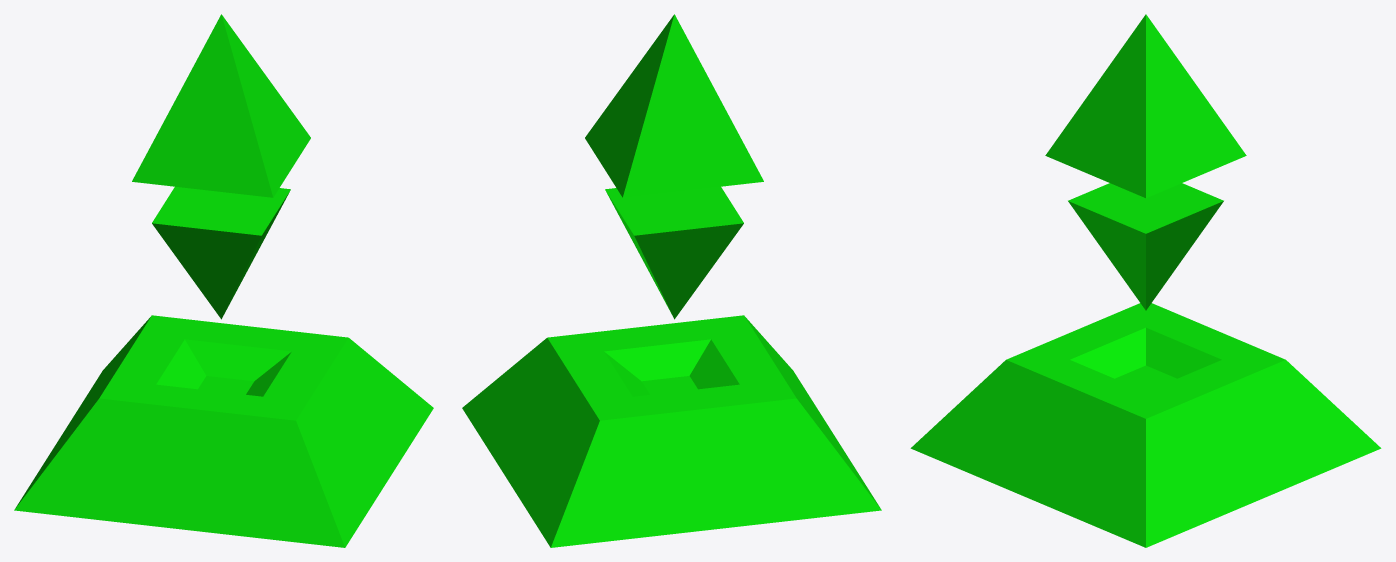
File: tri_art_piece_2.fbx
The picture shows the model from 3 angles, left to right: view 1: azimuth 30°, elevation 25°; view 2: azimuth 150°, elevation 25°; view 3: azimuth 270°, elevation 25°; orthographic projection. The views are drawn at different scales.
Parts seen in each view (by area): view 1: pCube13, pPyramid1, pPyramid2; view 2: pCube13, pPyramid1, pPyramid2; view 3: pCube13, pPyramid1, pPyramid2.
Boxes of the visible parts, x1,y1,x2,y2 form: pCube13: (14,315,433,547); pPyramid1: (132,14,310,197); pPyramid2: (152,186,290,319); pCube13: (462,315,881,547); pPyramid1: (585,14,763,197); pPyramid2: (605,186,743,319); pCube13: (910,303,1381,547); pPyramid1: (1045,14,1246,197); pPyramid2: (1068,183,1223,310).
Size of the model in its own units: 4.26 by 4.32 by 4.26.
